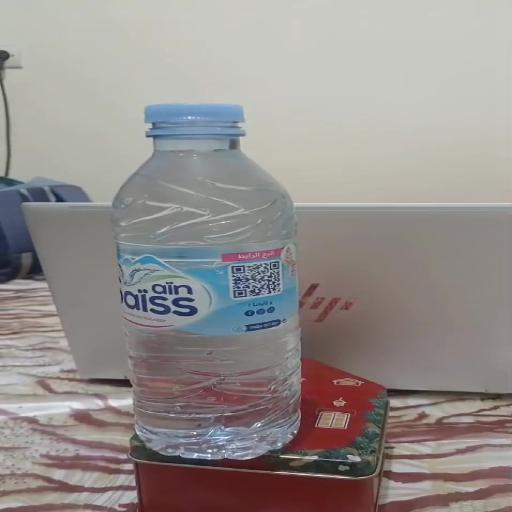bouteille non conformite: (129, 105, 285, 451)
